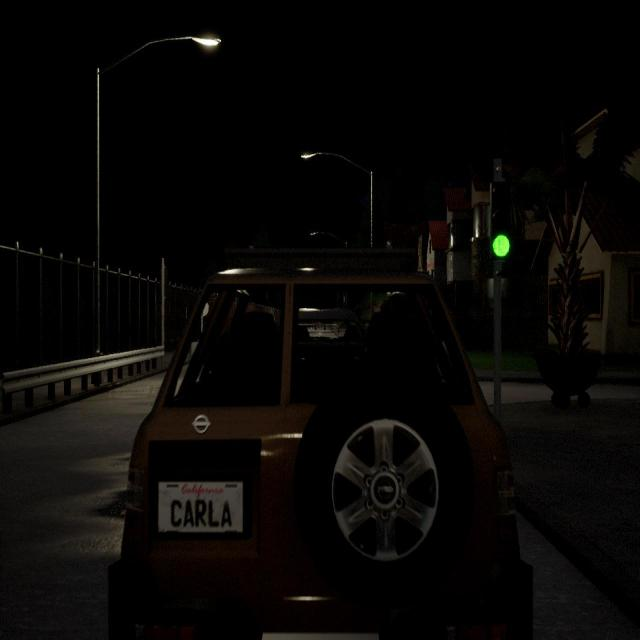Vehicle: (110, 250, 534, 640)
traffic_light: (490, 182, 516, 282)
